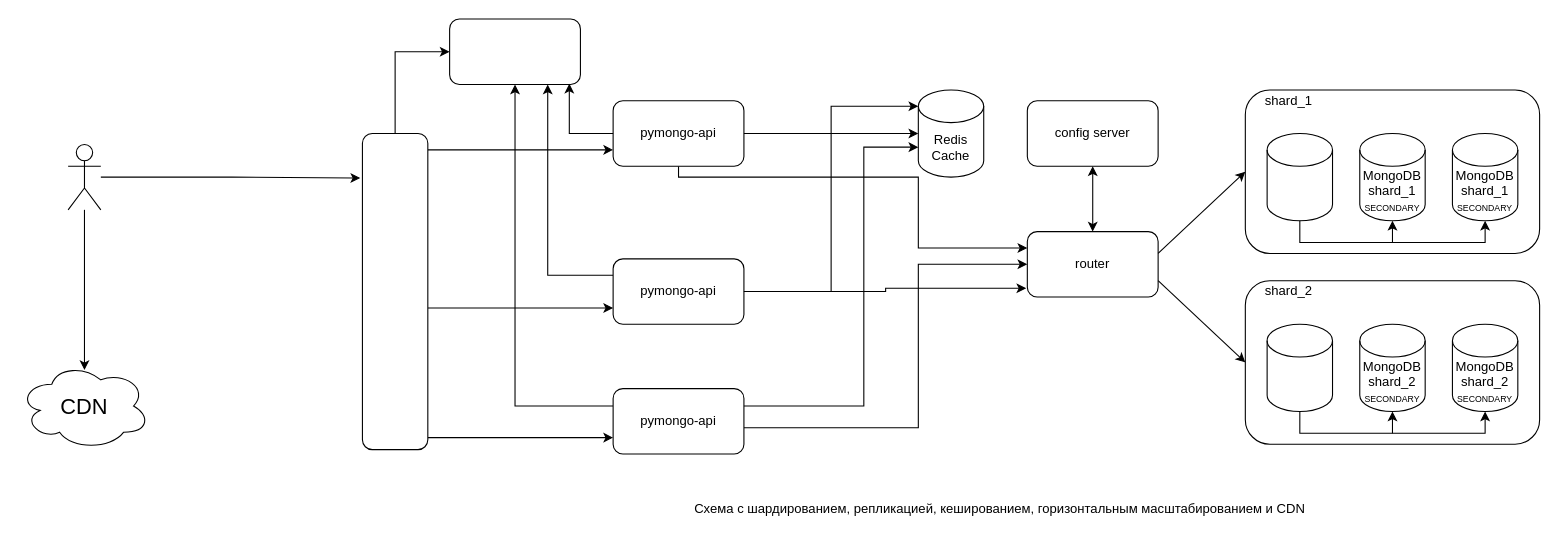
Some shapes in this 1559 by 556 pixel diagram are drawn without their labels. The centre of each missing label's shape, as x and y in pixels:
API GATEWAY: point 394,291
CLIENT: point 84,176
CONSUL: point 514,51
MongoDB shard_1 PRIMARY: point 1299,176
MongoDB shard_2 PRIMARY: point 1299,367
